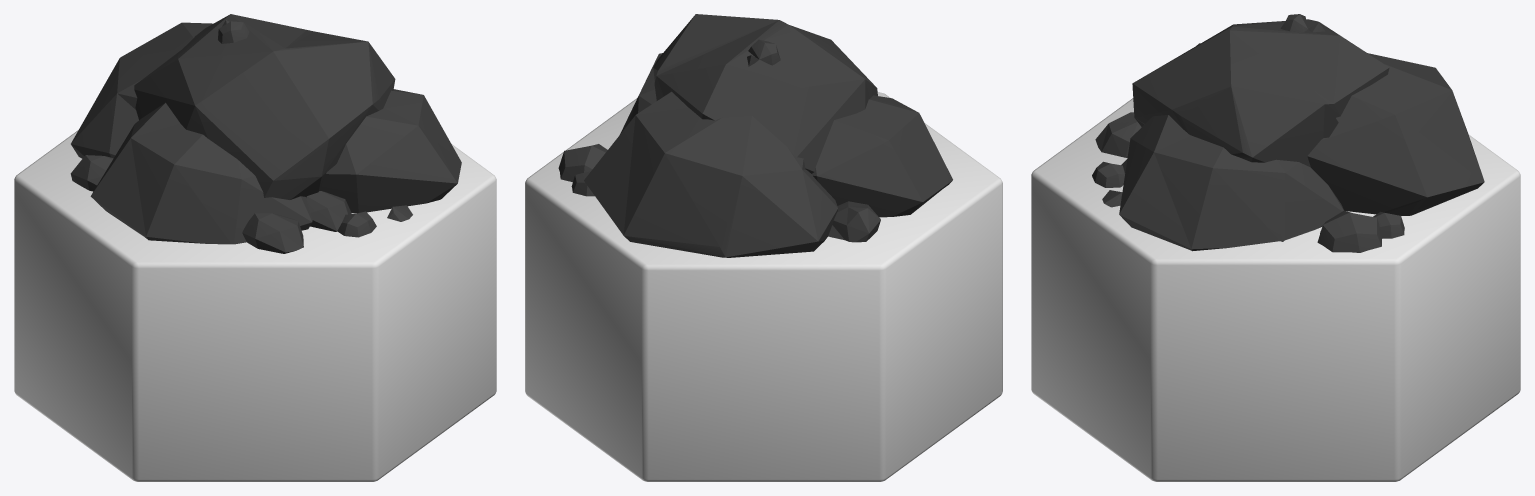
File: Environment_Rock.fbx
3 views of the same model, side by side, from view 1: azimuth 30°, elevation 25°; view 2: azimuth 150°, elevation 25°; view 3: azimuth 270°, elevation 25° (orthographic). The views are drawn at different scales.
Parts seen in each view (by area): view 1: Environment_Rock; view 2: Environment_Rock; view 3: Environment_Rock.
Part boxes in pixels (left/top/right/bottom): Environment_Rock: left=14, top=14, right=496, bottom=481; Environment_Rock: left=525, top=14, right=1002, bottom=481; Environment_Rock: left=1031, top=14, right=1520, bottom=481.
Bounding box in the file's own units: 173 × 168 × 199.
